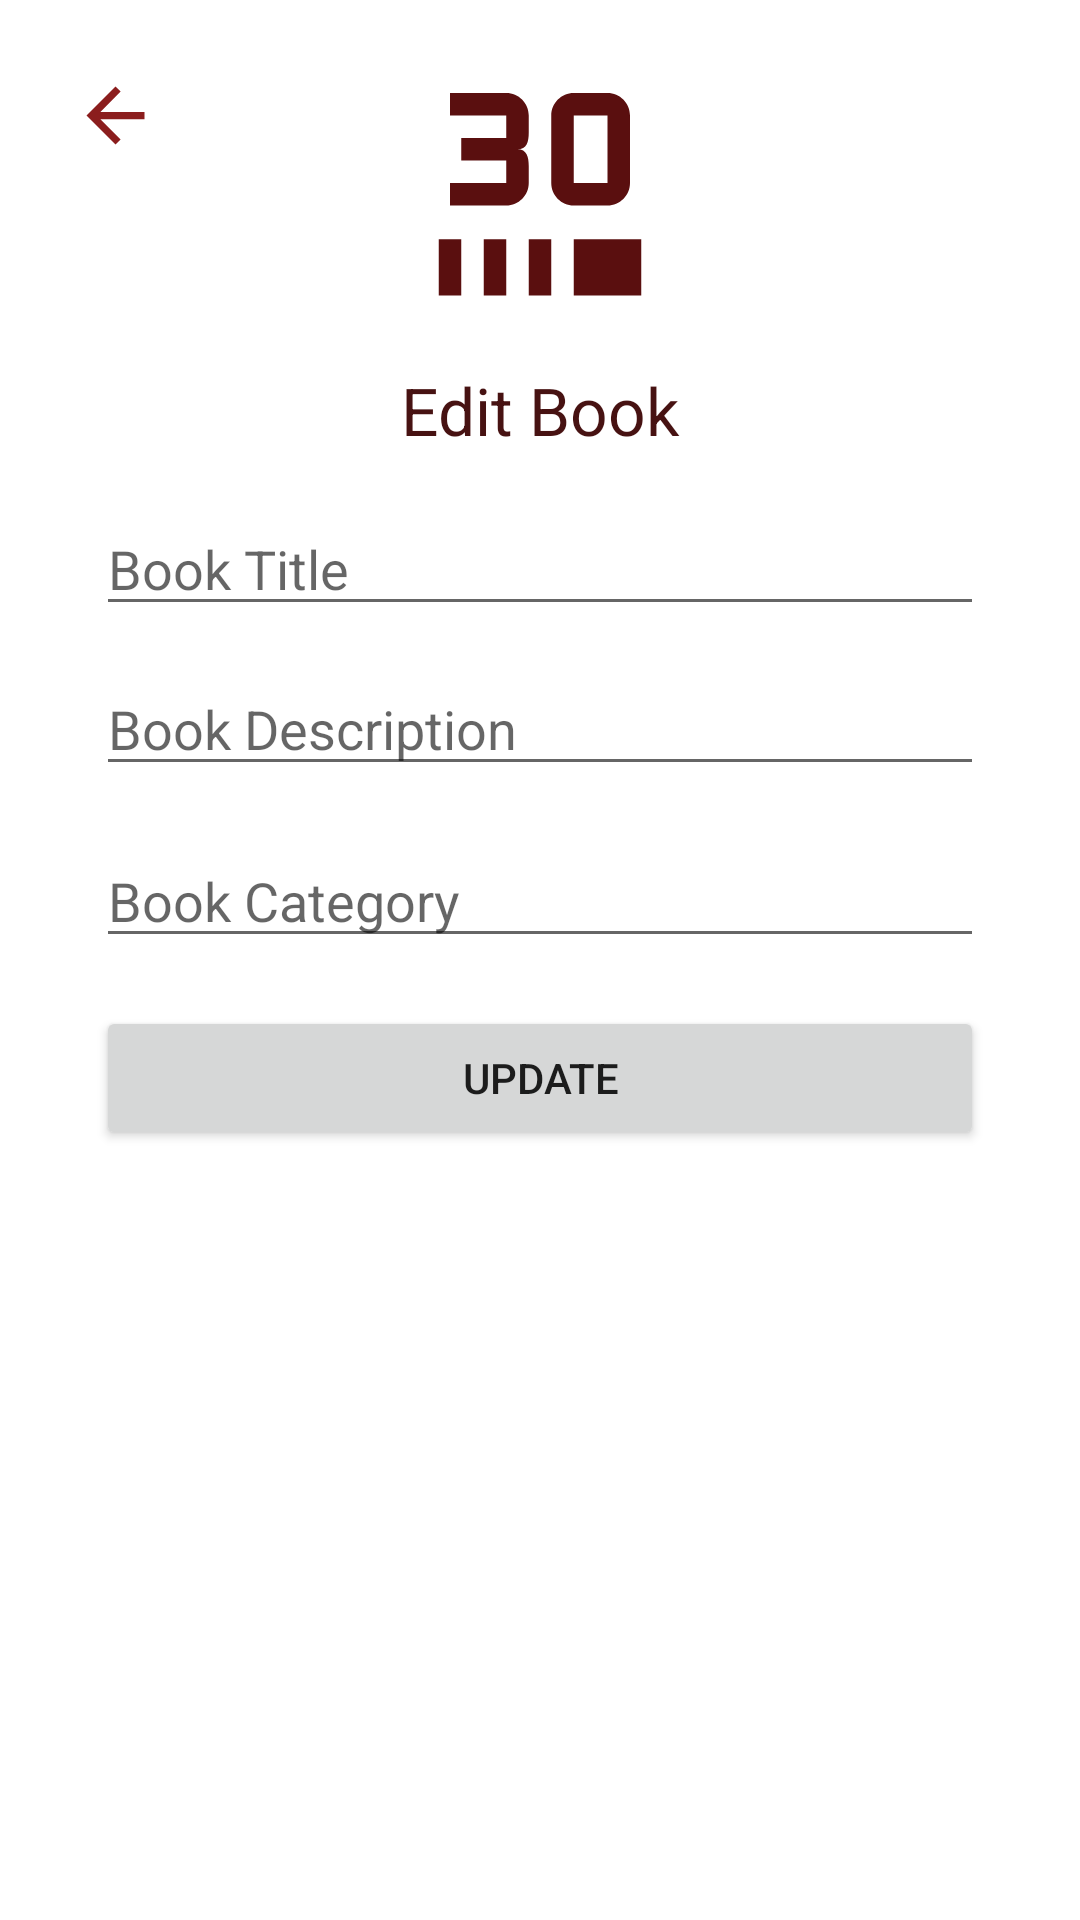

Screen size 1080 x 1920. Icon name, then its center in pixels as point (x, y):
arrow back: point (115, 115)
